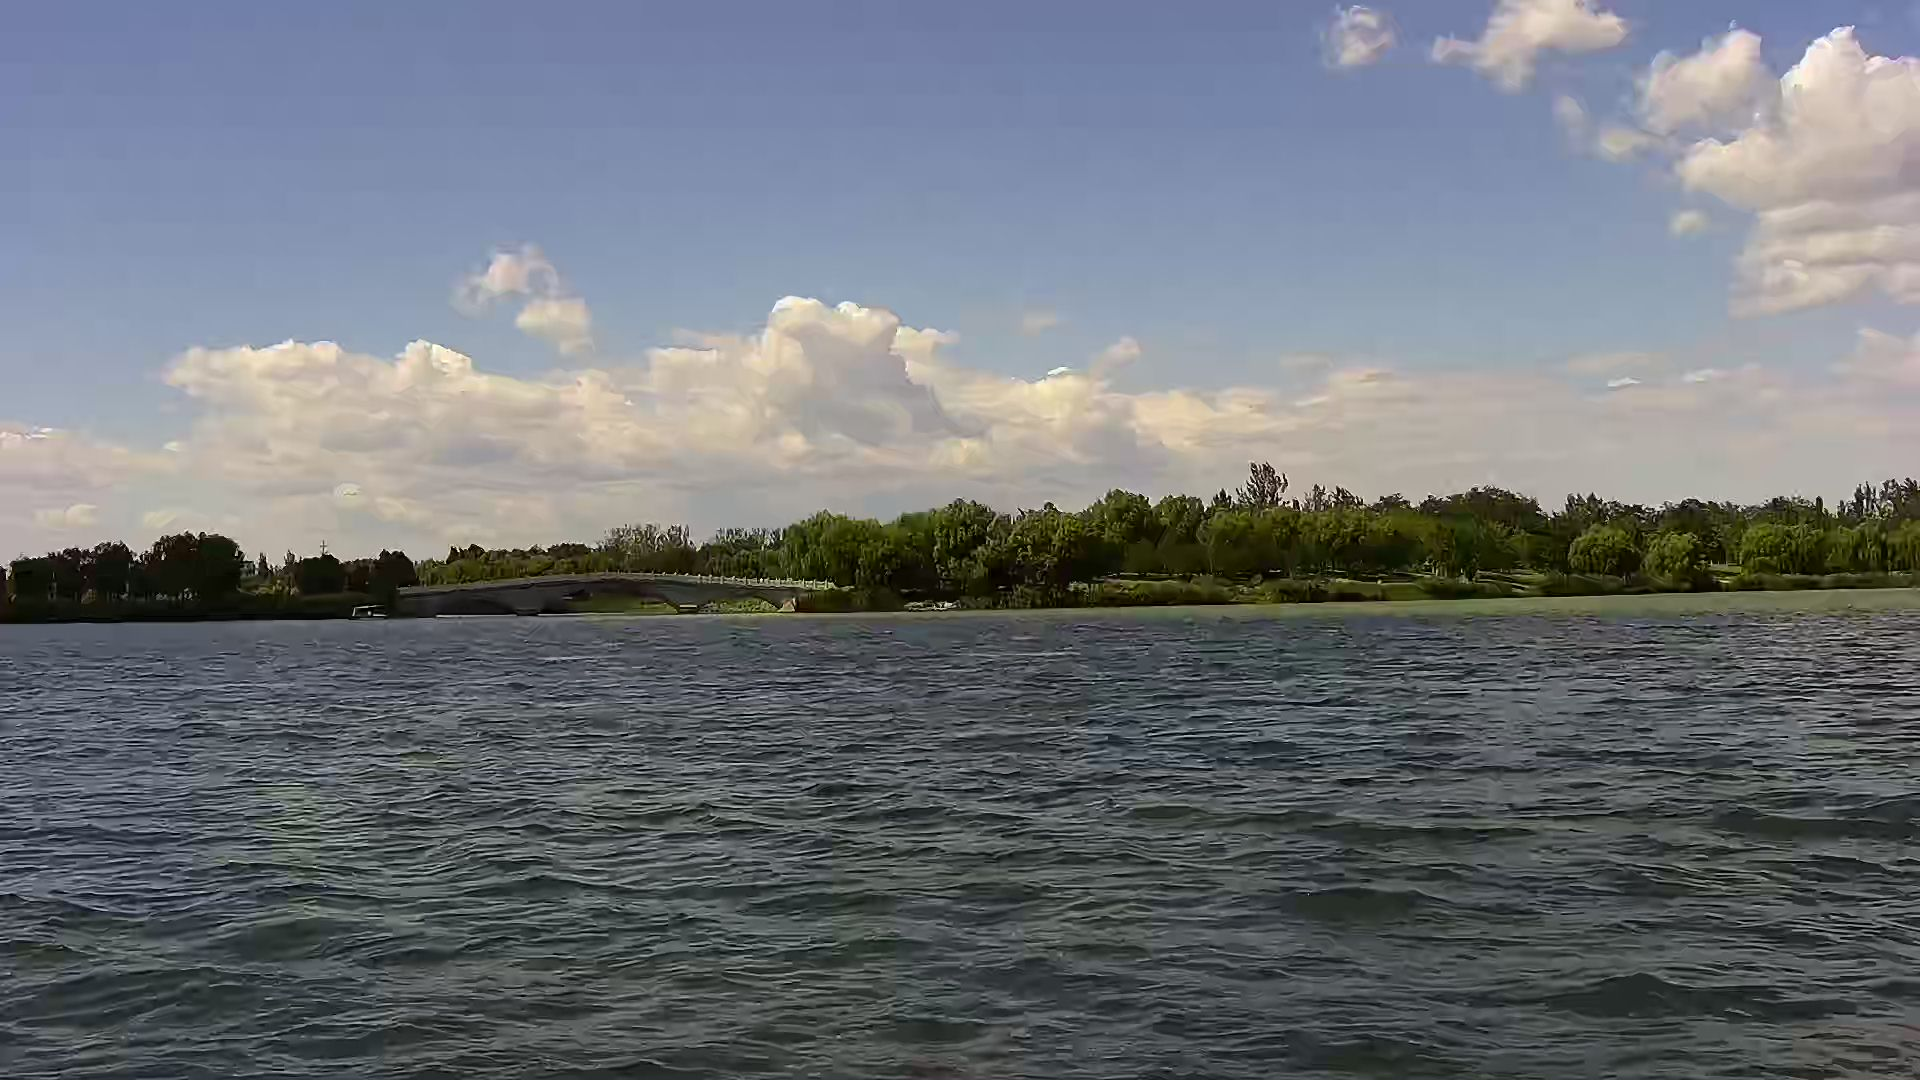bridge: (401, 568, 844, 620)
